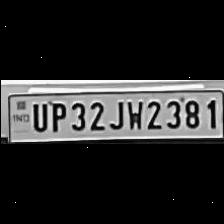1: (202, 96, 220, 128)
2: (86, 97, 106, 130), (142, 98, 162, 130)
3: (66, 99, 86, 131), (162, 97, 180, 129)
8: (182, 97, 200, 129)
J: (106, 98, 124, 130)
P: (46, 100, 66, 132)
U: (27, 100, 47, 132)
W: (124, 98, 142, 130)
